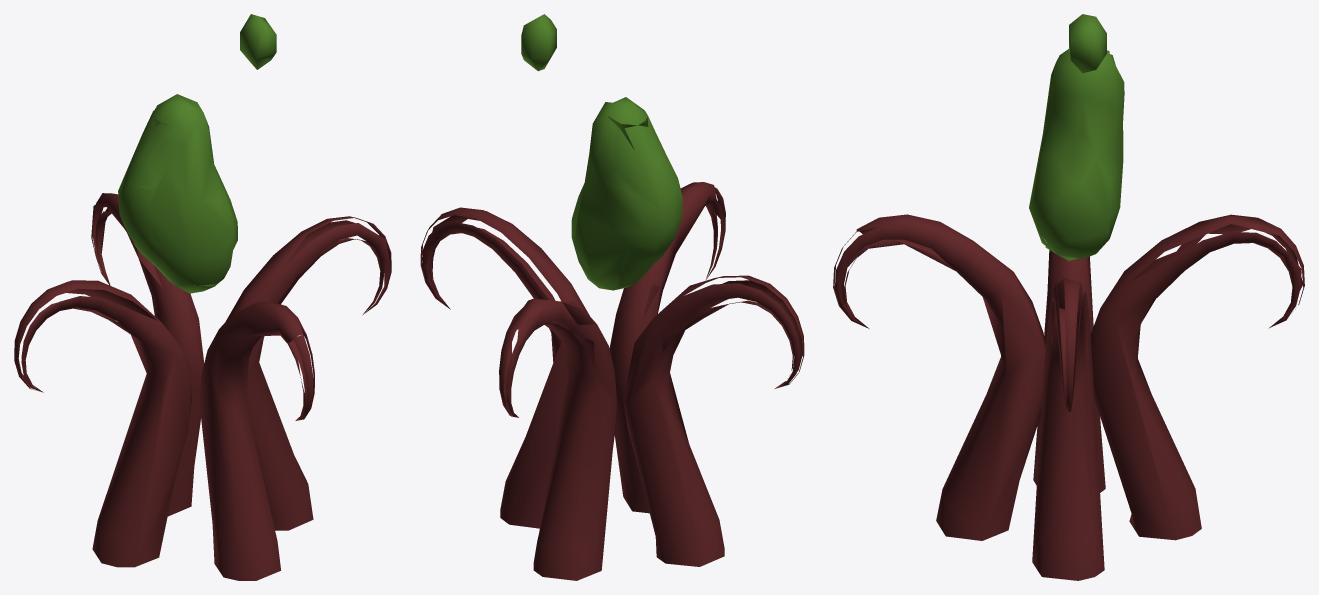
File: Tree_Spikes_1-low.glb
3 renders of one model, left to right at view 1: azimuth 30°, elevation 25°; view 2: azimuth 150°, elevation 25°; view 3: azimuth 270°, elevation 25°, orthographic. The views are drawn at different scales.
Parts seen in each view (by area): view 1: Tree_Spikes_1; view 2: Tree_Spikes_1; view 3: Tree_Spikes_1.
Part boxes in pixels (x1,y1,x2,y2): Tree_Spikes_1: [14, 14, 391, 580]; Tree_Spikes_1: [420, 14, 804, 580]; Tree_Spikes_1: [833, 14, 1304, 580].
Bounding box in the file's own units: 4.05 × 5.15 × 4.05.
1 material, 1 textured.
